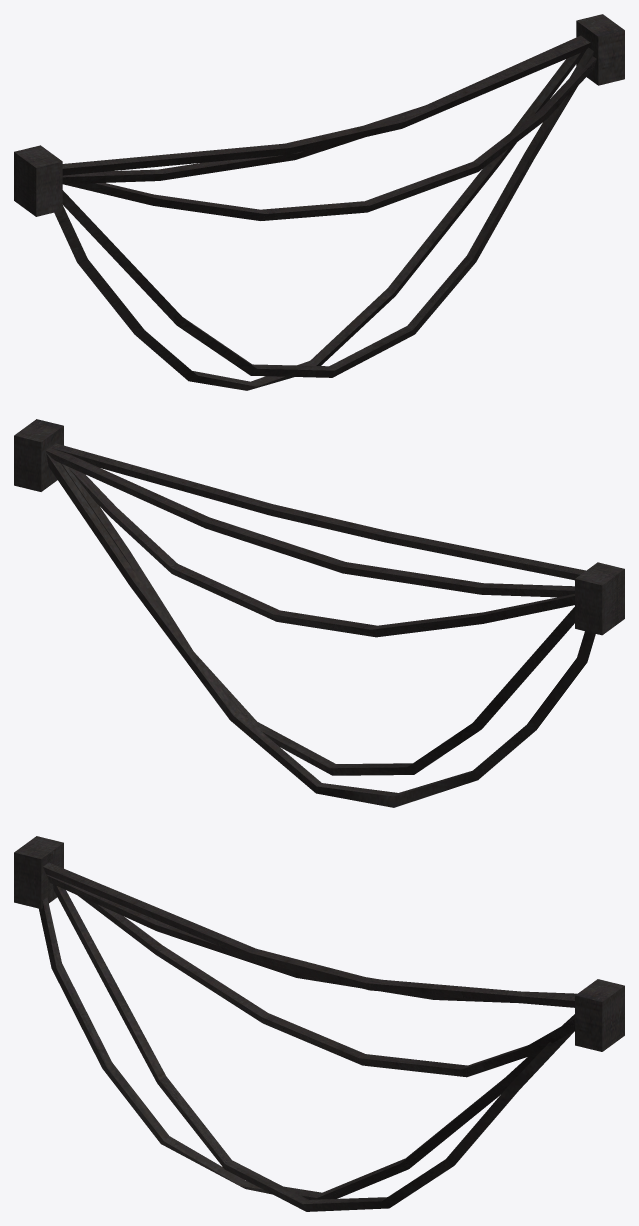
Rendered from Wire1.FBX.
3 renders of one model, top to bottom at view 1: azimuth 30°, elevation 25°; view 2: azimuth 150°, elevation 25°; view 3: azimuth 330°, elevation 25°, orthographic. The views are drawn at different scales.
Parts seen in each view (by area): view 1: HangingWires_1B; view 2: HangingWires_1B; view 3: HangingWires_1B.
Part boxes in pixels (x1,y1,x2,y2): HangingWires_1B: (14,14,624,390); HangingWires_1B: (14,419,624,807); HangingWires_1B: (14,836,624,1211).
Bounding box in the file's own units: 280 × 130 × 28.31.
